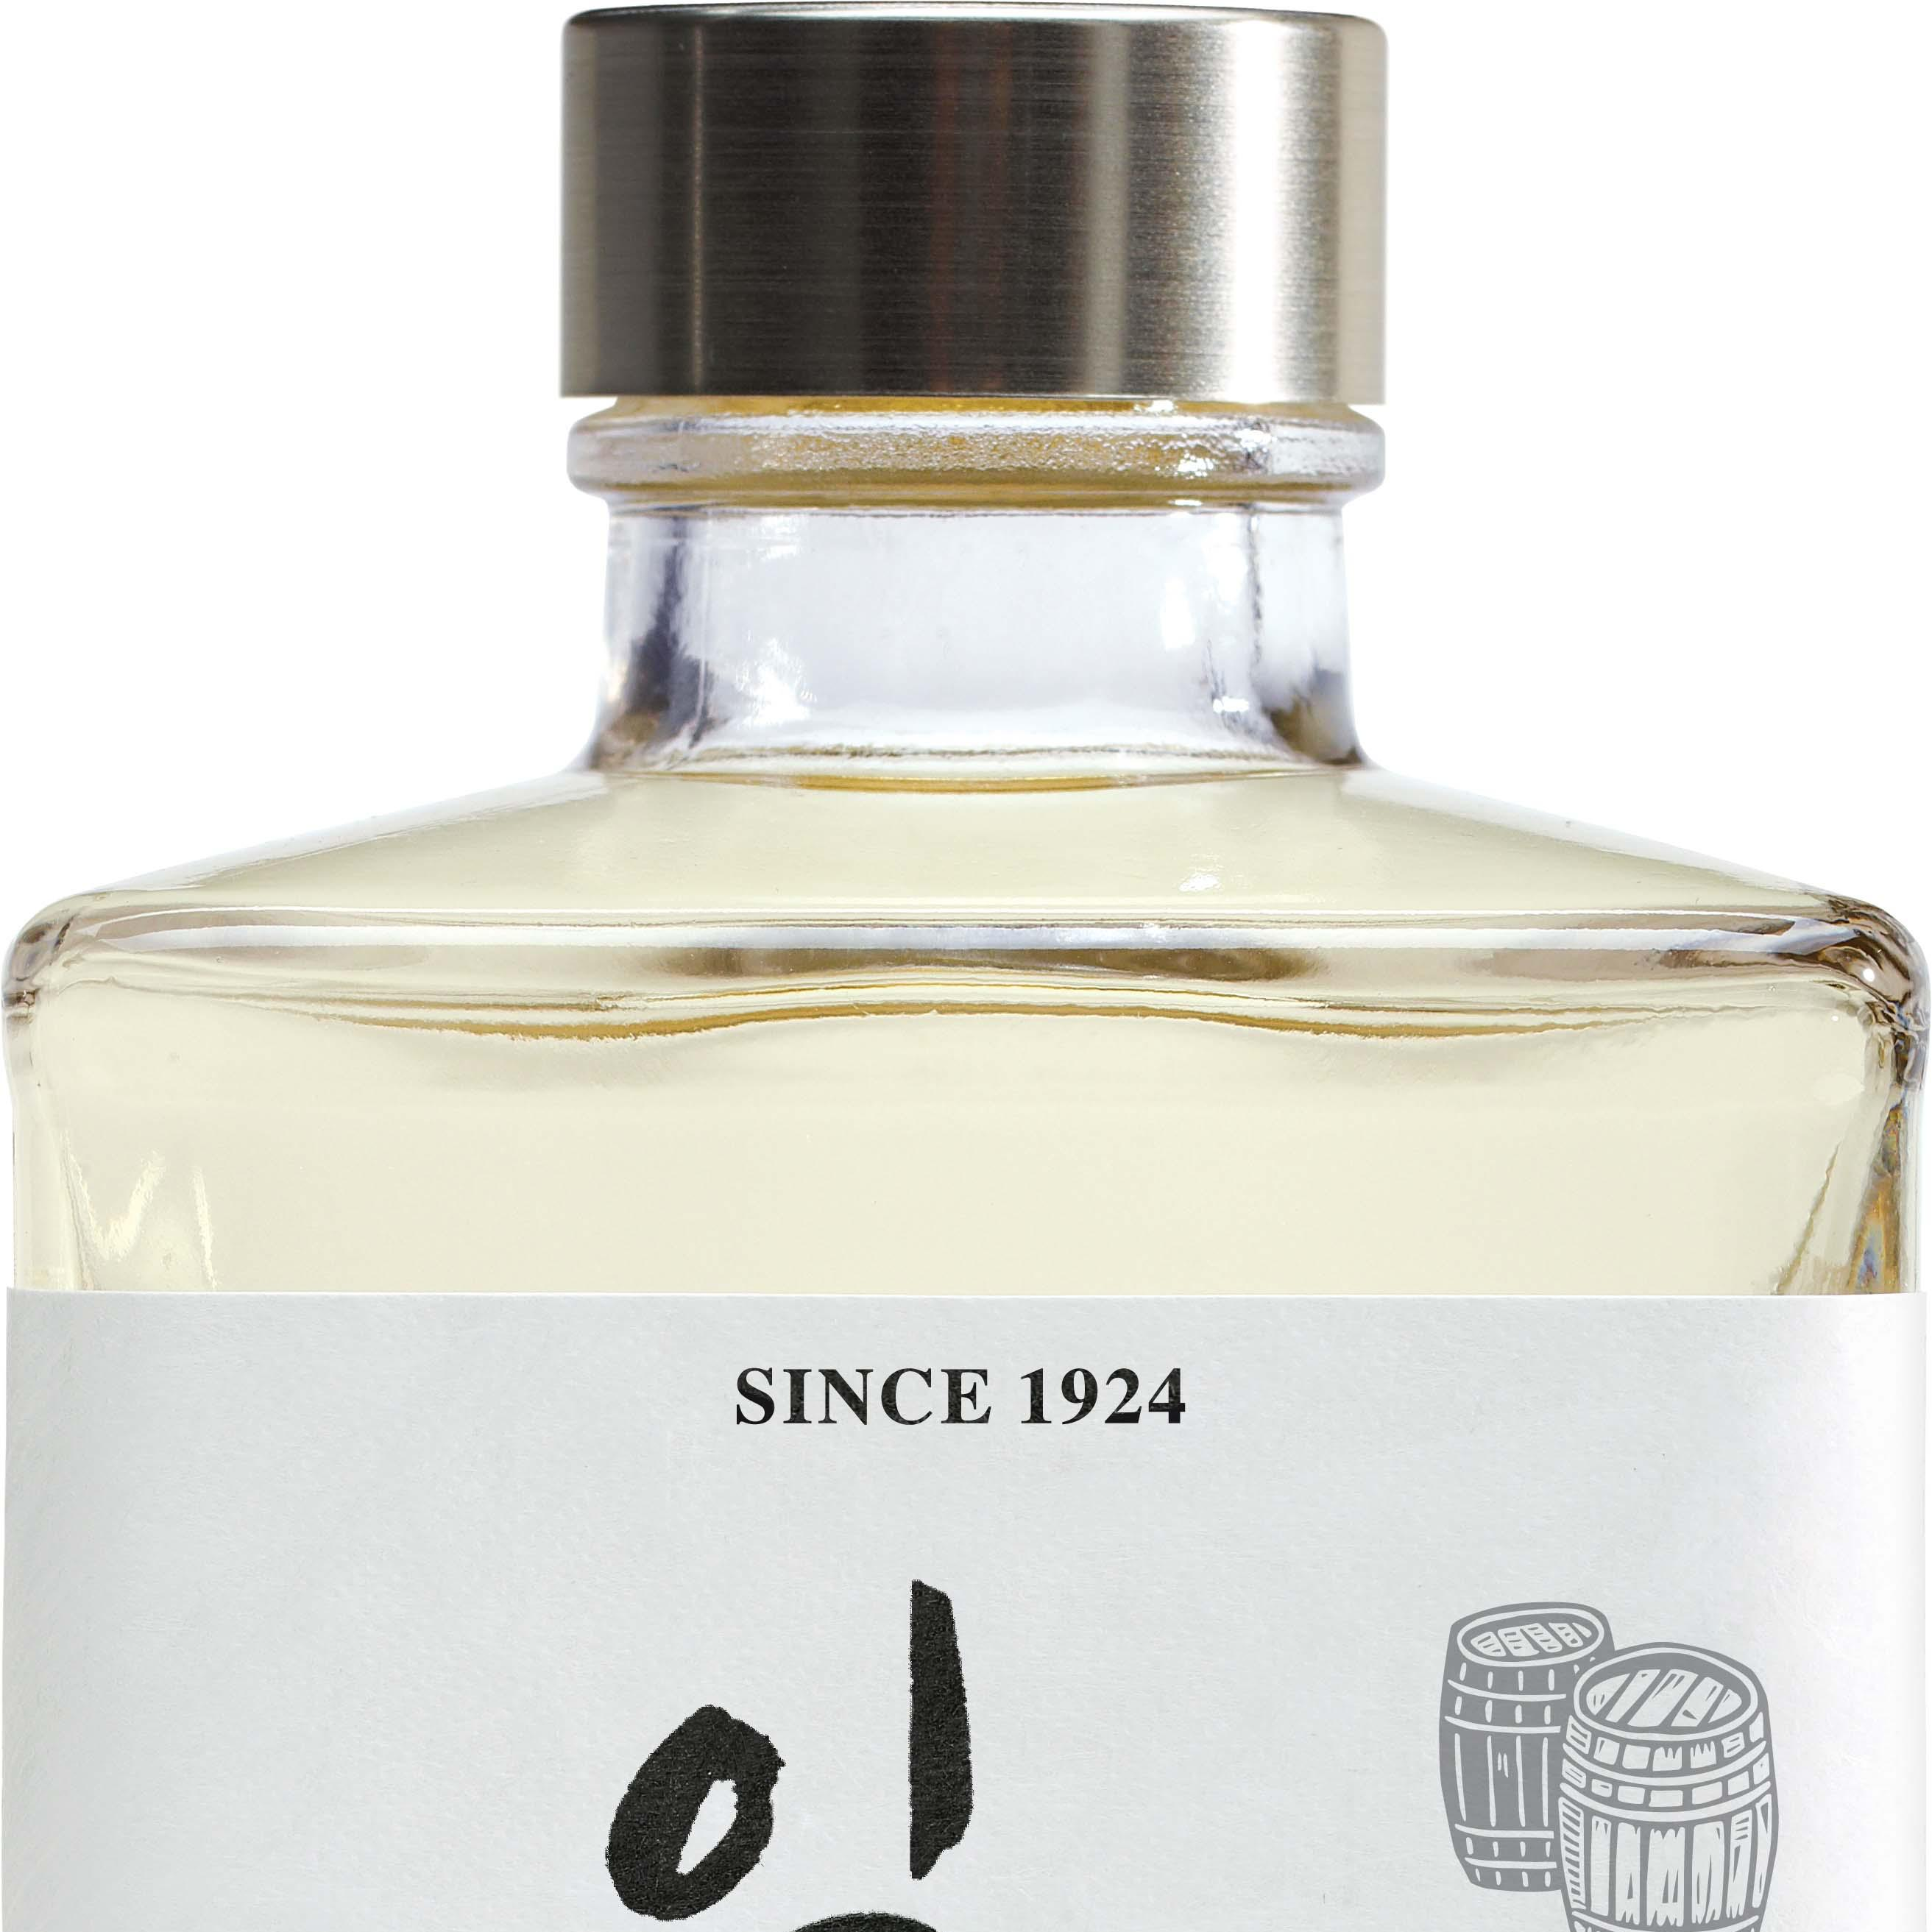soju: (4, 11, 1932, 1932)
